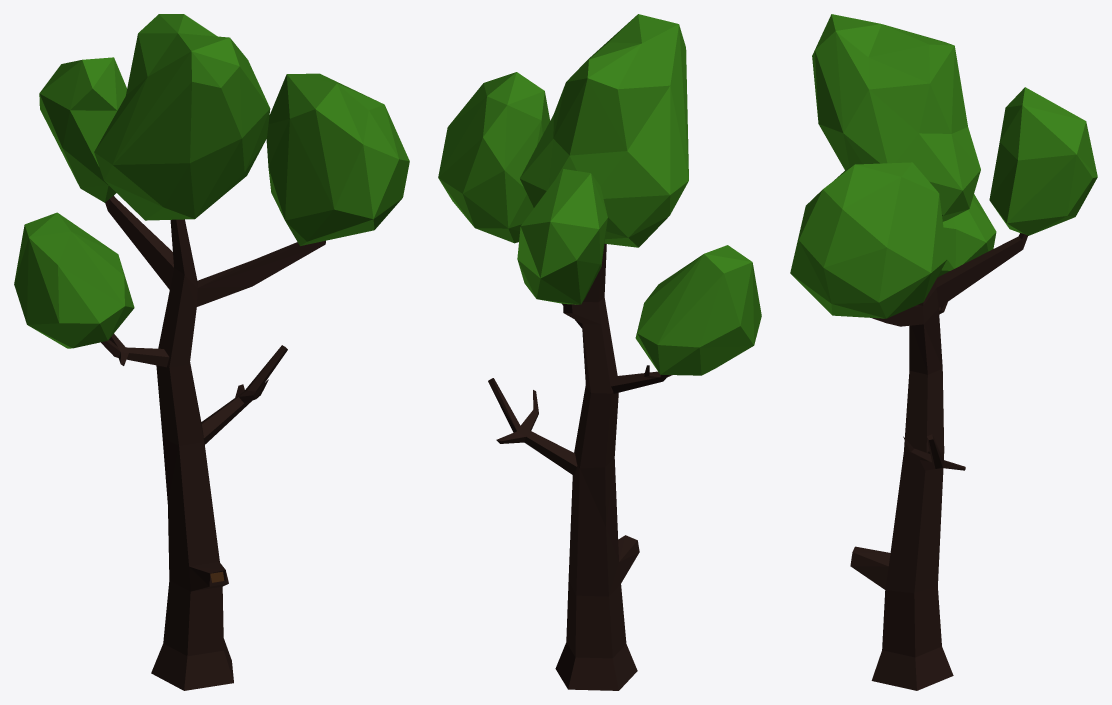
The model's file is fork_tree2.obj.
3 renders of one model, left to right at view 1: azimuth 30°, elevation 25°; view 2: azimuth 150°, elevation 25°; view 3: azimuth 270°, elevation 25°, orthographic. The views are drawn at different scales.
Visible parts, largest first — view 1: Tree2_1_Cylinder.010; view 2: Tree2_1_Cylinder.010; view 3: Tree2_1_Cylinder.010.
Boxes of the visible parts, left/top/right/bottom form: Tree2_1_Cylinder.010: left=14, top=14, right=409, bottom=690; Tree2_1_Cylinder.010: left=438, top=14, right=761, bottom=690; Tree2_1_Cylinder.010: left=790, top=14, right=1097, bottom=690.
Size of the model in its own units: 8.66 by 15.92 by 6.95.
